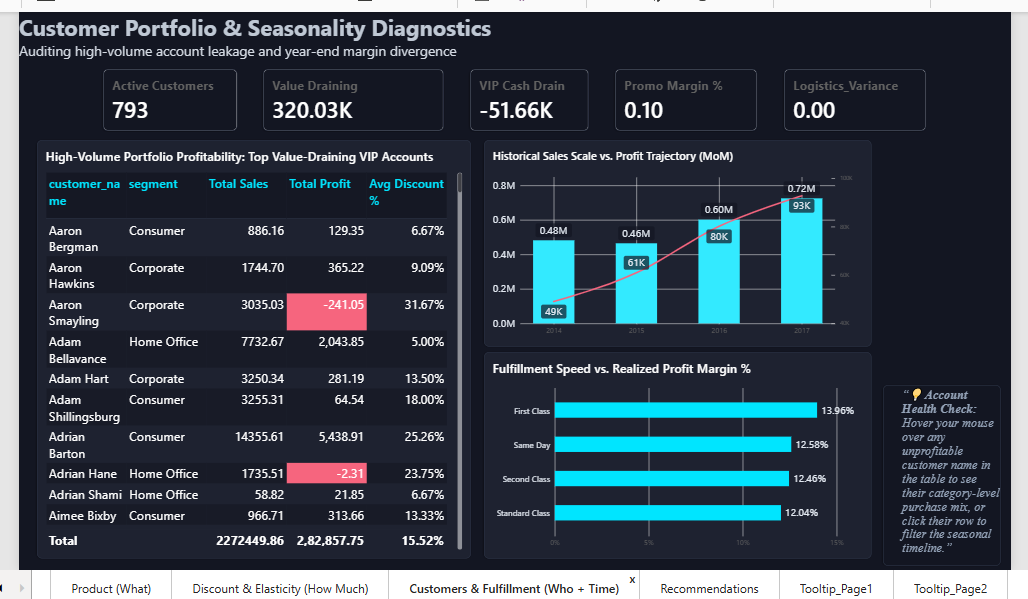

The dashboard page shown, as its layout file describes it:
{"tool":"powerbi","page":{"name":"Customers & Fulfillment (Who + Time)","canvas":[1920,1080],"ordinal":4},"visuals":[{"type":"textbox","box":[0,0,1920,110],"z":0},{"type":"cardVisual","fields":{"Data":["superstore.Active Customers"]},"box":[162.5,110,260,120],"z":1000},{"type":"cardVisual","fields":{"Data":["superstore.Value Draining"]},"box":[473.1,110,350,120],"z":2000},{"type":"cardVisual","fields":{"Data":["superstore.VIP Cash Drain"]},"box":[873.8,110,230,120],"z":3000},{"type":"cardVisual","fields":{"Data":["superstore.Promo Hangover %"]},"box":[1154.4,110,275,120],"z":4000},{"type":"cardVisual","fields":{"Data":["superstore.Logistics_Variance"]},"box":[1480,110,275,120],"z":5000},{"type":"tableEx","title":"High-Volume Portfolio Profitability: Top Value-Draining VIP Accounts","fields":{"Values":["superstore.customer_name","superstore.segment","superstore.Total Sales","superstore.Total Profit","superstore.Avg Discount %"]},"box":[35,247.5,840,810],"z":6000},{"type":"lineStackedColumnComboChart","title":"Historical Sales Scale vs. Profit Trajectory (MoM)","fields":{"Category":["superstore.order_date.Variation.Date Hierarchy.Year","superstore.order_date.Variation.Date Hierarchy.Month"],"Y":["superstore.Total Sales"],"Y2":["superstore.Total Profit"]},"box":[900,247.5,750,400],"z":7000},{"type":"clusteredBarChart","title":"Fulfillment Speed vs. Realized Profit Margin %","fields":{"Category":["superstore.ship_mode"],"Y":["superstore.Profit Margin %"]},"box":[900,657.5,750,400],"z":8000},{"type":"textbox","box":[1672.5,722.5,227.5,350],"z":9000}]}

Visuals, with their boxes on the page's 1920x1080 design canvas (x1, y1, x2, y2). These are canvas units, not pixel positions in the 1028x599 screenshot, which may show the page scaled, cropped or inside an application window:
textbox: {"left": 0, "top": 0, "right": 1920, "bottom": 110}
cardVisual - superstore.Active Customers: {"left": 162, "top": 110, "right": 422, "bottom": 230}
cardVisual - superstore.Value Draining: {"left": 473, "top": 110, "right": 823, "bottom": 230}
cardVisual - superstore.VIP Cash Drain: {"left": 874, "top": 110, "right": 1104, "bottom": 230}
cardVisual - superstore.Promo Hangover %: {"left": 1154, "top": 110, "right": 1429, "bottom": 230}
cardVisual - superstore.Logistics_Variance: {"left": 1480, "top": 110, "right": 1755, "bottom": 230}
"High-Volume Portfolio Profitability: Top Value-Draining VIP Accounts" tableEx: {"left": 35, "top": 248, "right": 875, "bottom": 1058}
"Historical Sales Scale vs. Profit Trajectory (MoM)" lineStackedColumnComboChart: {"left": 900, "top": 248, "right": 1650, "bottom": 648}
"Fulfillment Speed vs. Realized Profit Margin %" clusteredBarChart: {"left": 900, "top": 658, "right": 1650, "bottom": 1058}
textbox: {"left": 1672, "top": 722, "right": 1900, "bottom": 1072}
